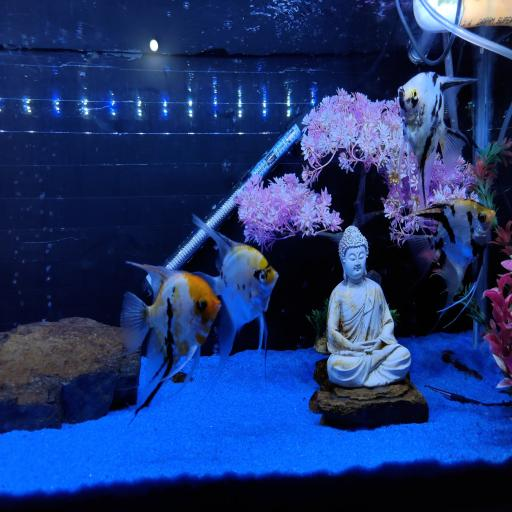Fish: (121, 262, 220, 415), (193, 216, 278, 384), (399, 72, 475, 207), (407, 199, 495, 315)
